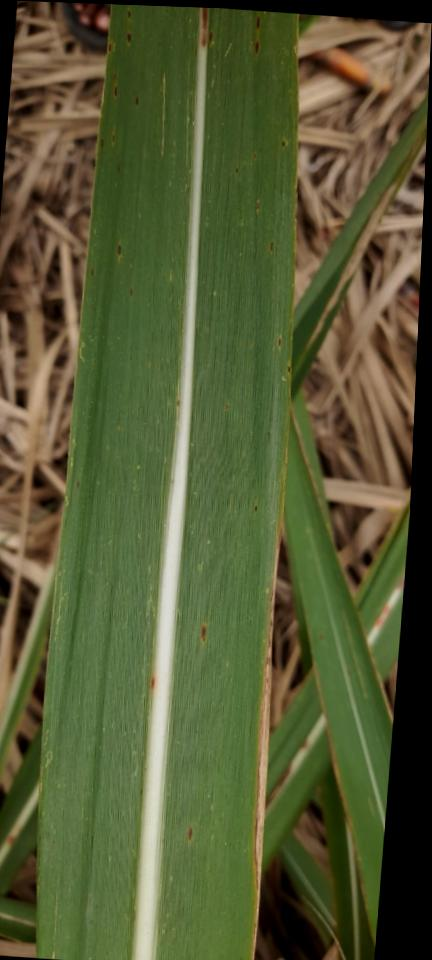RedRot: (199, 7, 209, 48)
Rust: (251, 519, 282, 960), (252, 12, 263, 56), (198, 619, 209, 644), (115, 240, 125, 262), (109, 124, 118, 145), (274, 334, 284, 351), (186, 823, 194, 843), (107, 37, 116, 54), (279, 134, 288, 150), (267, 238, 276, 254), (254, 197, 262, 214), (207, 29, 215, 45), (112, 82, 119, 99), (126, 284, 135, 297), (125, 30, 132, 46), (149, 676, 156, 690), (134, 94, 141, 107), (89, 265, 96, 278), (99, 136, 105, 151), (125, 9, 132, 20), (285, 363, 291, 374)
